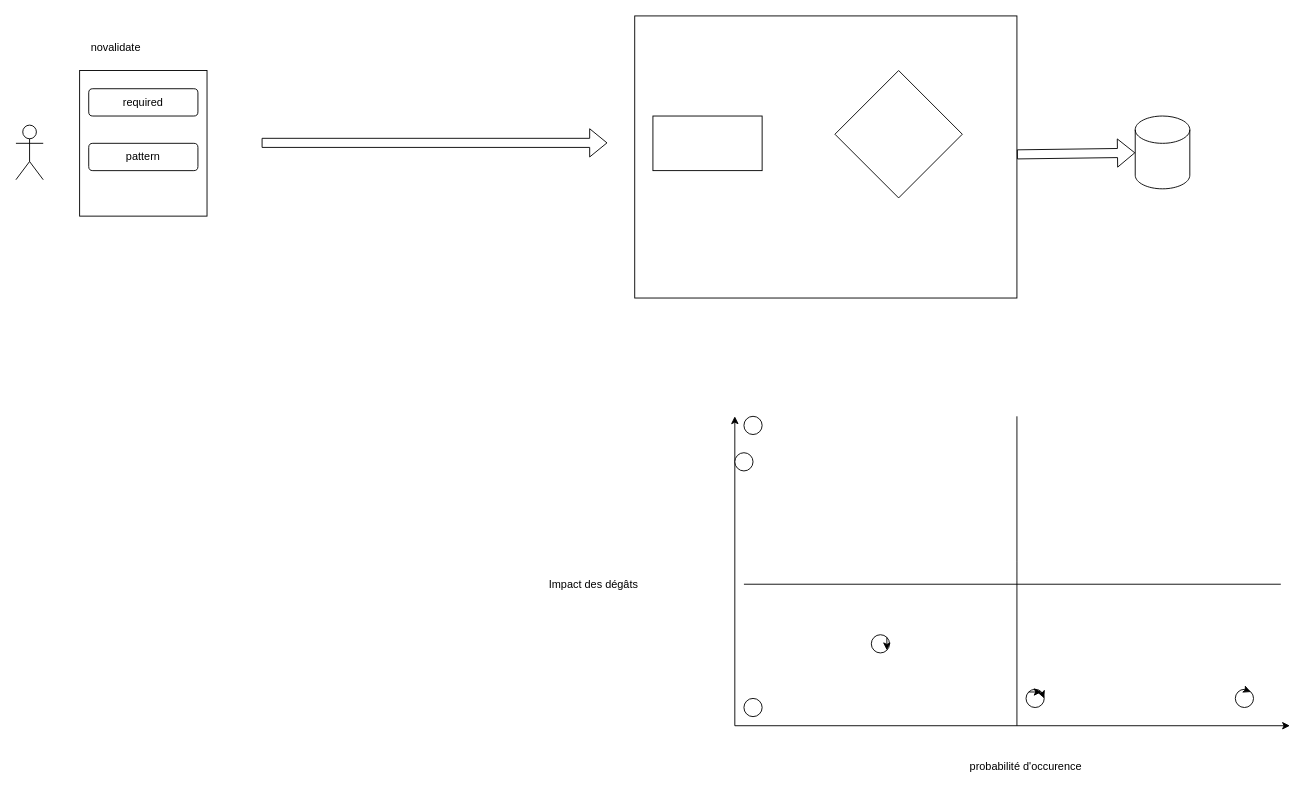
Some shapes in this 1313 by 796 pixel diagram are drawn without their labels. Each missing label, with the centre of its shape:
Actor: the point at 29,152
NotBlank: the point at 707,143
